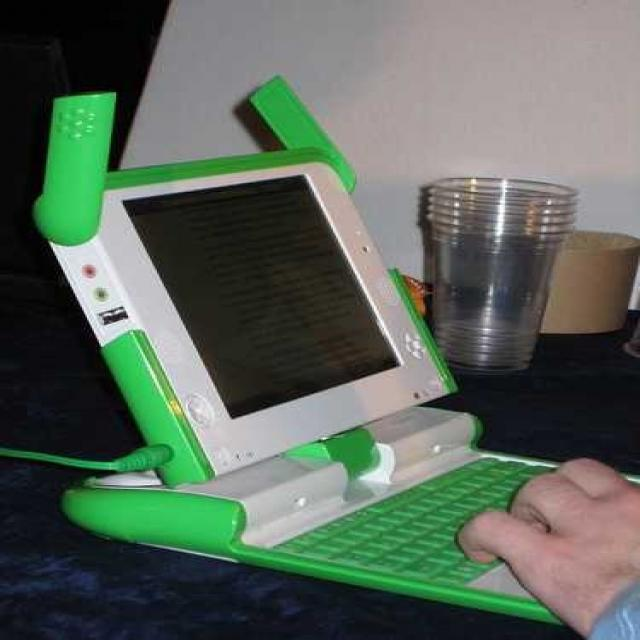laptop: (22, 80, 640, 632)
